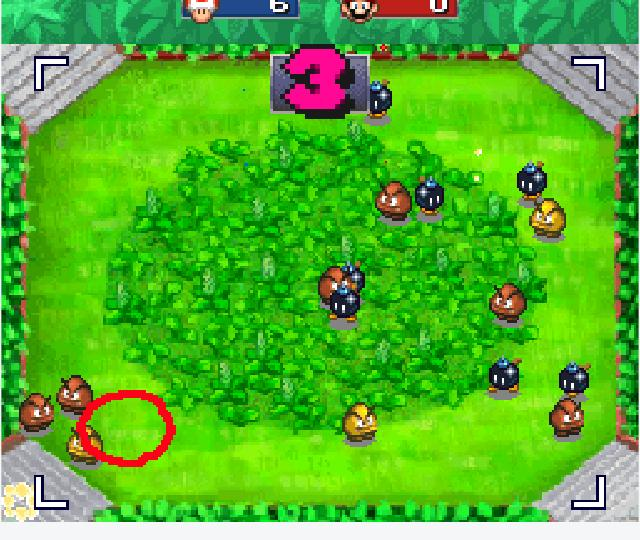bomb: (485, 352, 528, 402), (512, 155, 552, 207), (411, 174, 448, 216), (556, 359, 593, 401), (365, 78, 394, 128), (327, 284, 362, 325), (348, 258, 368, 289)
goomba: (485, 278, 530, 326), (338, 400, 379, 450), (55, 369, 95, 418), (374, 178, 415, 225), (63, 422, 105, 467), (16, 390, 58, 435), (528, 196, 569, 242), (545, 395, 585, 439), (317, 263, 351, 308)
